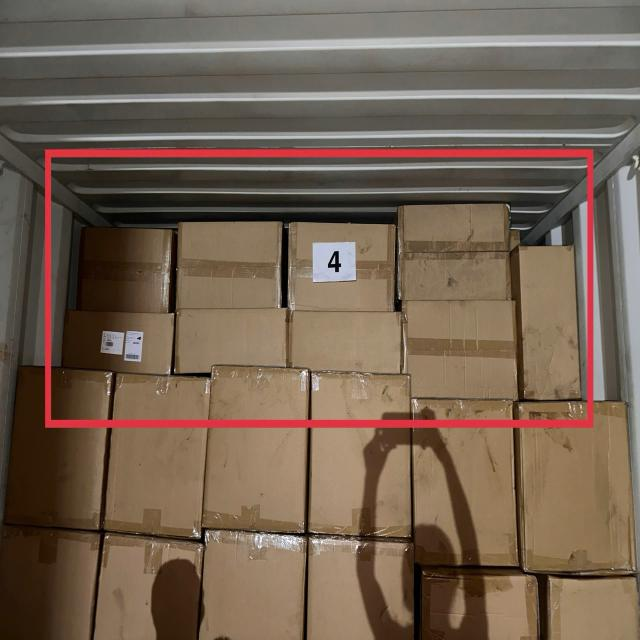Carton: (520, 404, 634, 579), (409, 407, 516, 572), (6, 361, 104, 528), (312, 402, 417, 534), (108, 399, 205, 541), (400, 305, 516, 407), (208, 416, 308, 533), (198, 530, 304, 638), (96, 531, 202, 636), (310, 535, 420, 636), (398, 205, 510, 304), (0, 526, 94, 636), (173, 220, 278, 312), (286, 222, 392, 313), (521, 247, 582, 403), (418, 566, 539, 636), (179, 304, 294, 371), (84, 228, 174, 313), (288, 310, 406, 374), (65, 313, 176, 377), (546, 576, 640, 640), (208, 368, 307, 426), (112, 376, 212, 425)
